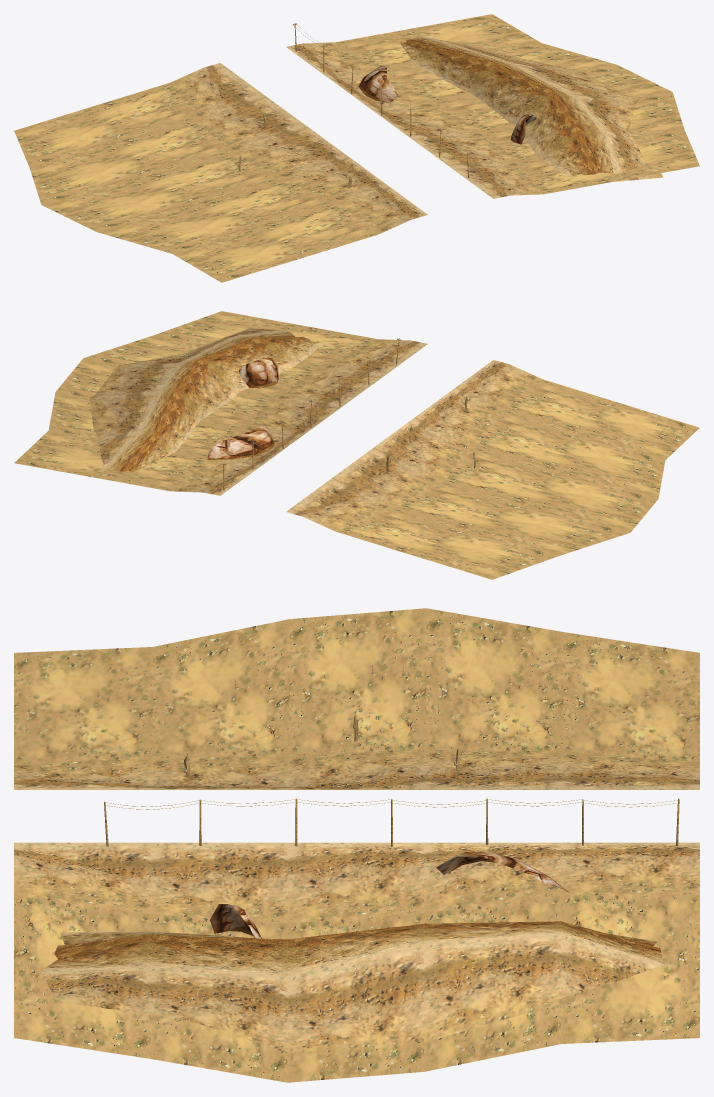
File: us_des_mid_02.fbx
3 renders of one model, top to bottom at view 1: azimuth 30°, elevation 25°; view 2: azimuth 150°, elevation 25°; view 3: azimuth 270°, elevation 25°, orthographic. The views are drawn at different scales.
Parts seen in each view (by area): view 1: des_mid_02, des_props_02; view 2: des_mid_02, des_props_02; view 3: des_mid_02, des_props_02.
Part boxes in pixels (<box>): des_mid_02: <box>14,14,699,282</box>; des_props_02: <box>235,23,469,187</box>; des_mid_02: <box>14,311,699,579</box>; des_props_02: <box>222,338,477,490</box>; des_mid_02: <box>14,608,699,1082</box>; des_props_02: <box>104,715,679,846</box>.
Size of the model in its own units: 16370 by 1338 by 10000.
